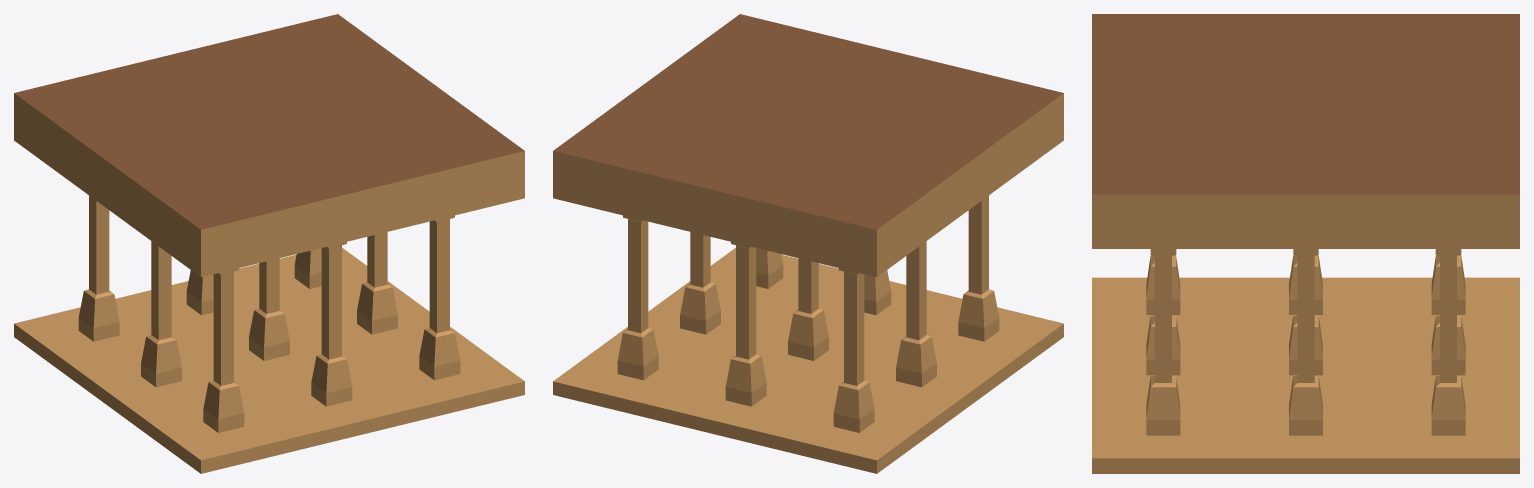
The model's file is india_hindu-pillars-middle.fbx.
3 renders of one model, left to right at view 1: azimuth 30°, elevation 25°; view 2: azimuth 150°, elevation 25°; view 3: azimuth 270°, elevation 25°, orthographic. The views are drawn at different scales.
Visible parts, largest first — view 1: india_hindu_pillars_middle; view 2: india_hindu_pillars_middle; view 3: india_hindu_pillars_middle.
Boxes of the visible parts, <box> form: india_hindu_pillars_middle: <box>14,14,524,473</box>; india_hindu_pillars_middle: <box>553,14,1063,473</box>; india_hindu_pillars_middle: <box>1092,14,1519,473</box>.
Bounding box in the file's own units: 200 × 144 × 200.
